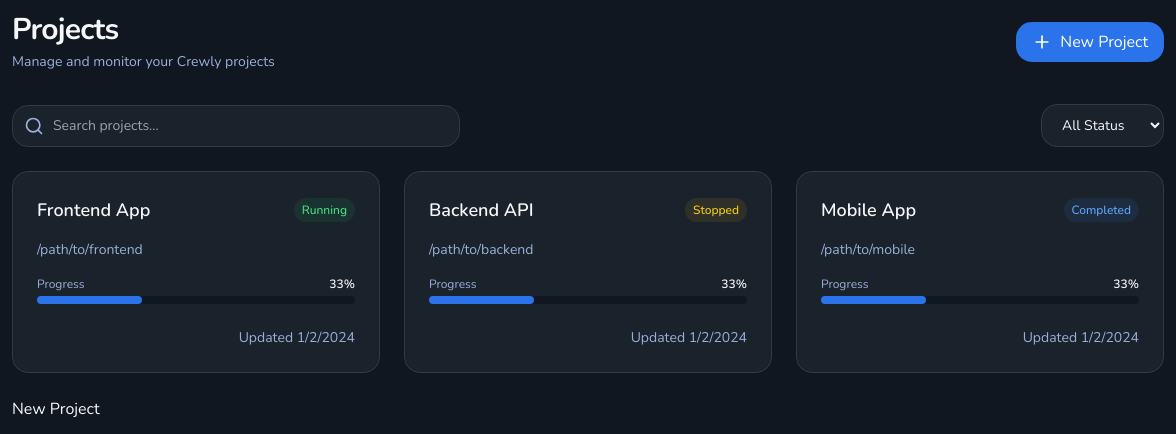
Test: Projects Page › Search and Filter Functionality › should filter projects by path
Check: the heading "Frontend App" is shown, box [37,196,150,224]
Step 1. Type "backend" into the field with placeholder "Search projects..." → {"x": 236, "y": 126}, box [12,104,460,146]
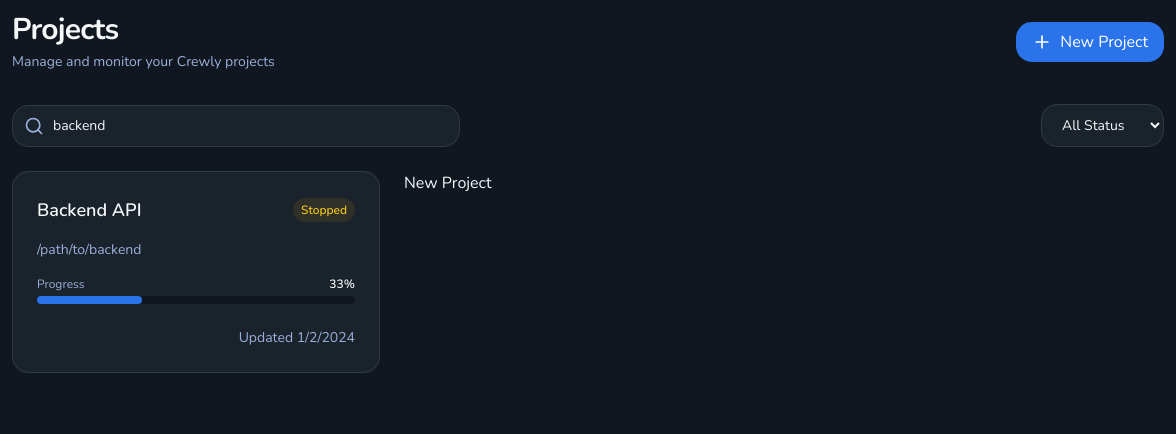
Check: the heading "Backend API" is shown, box [37,196,142,224]
Check: the heading "Frontend App" is gone
Check: the heading "Mobile App" is gone
